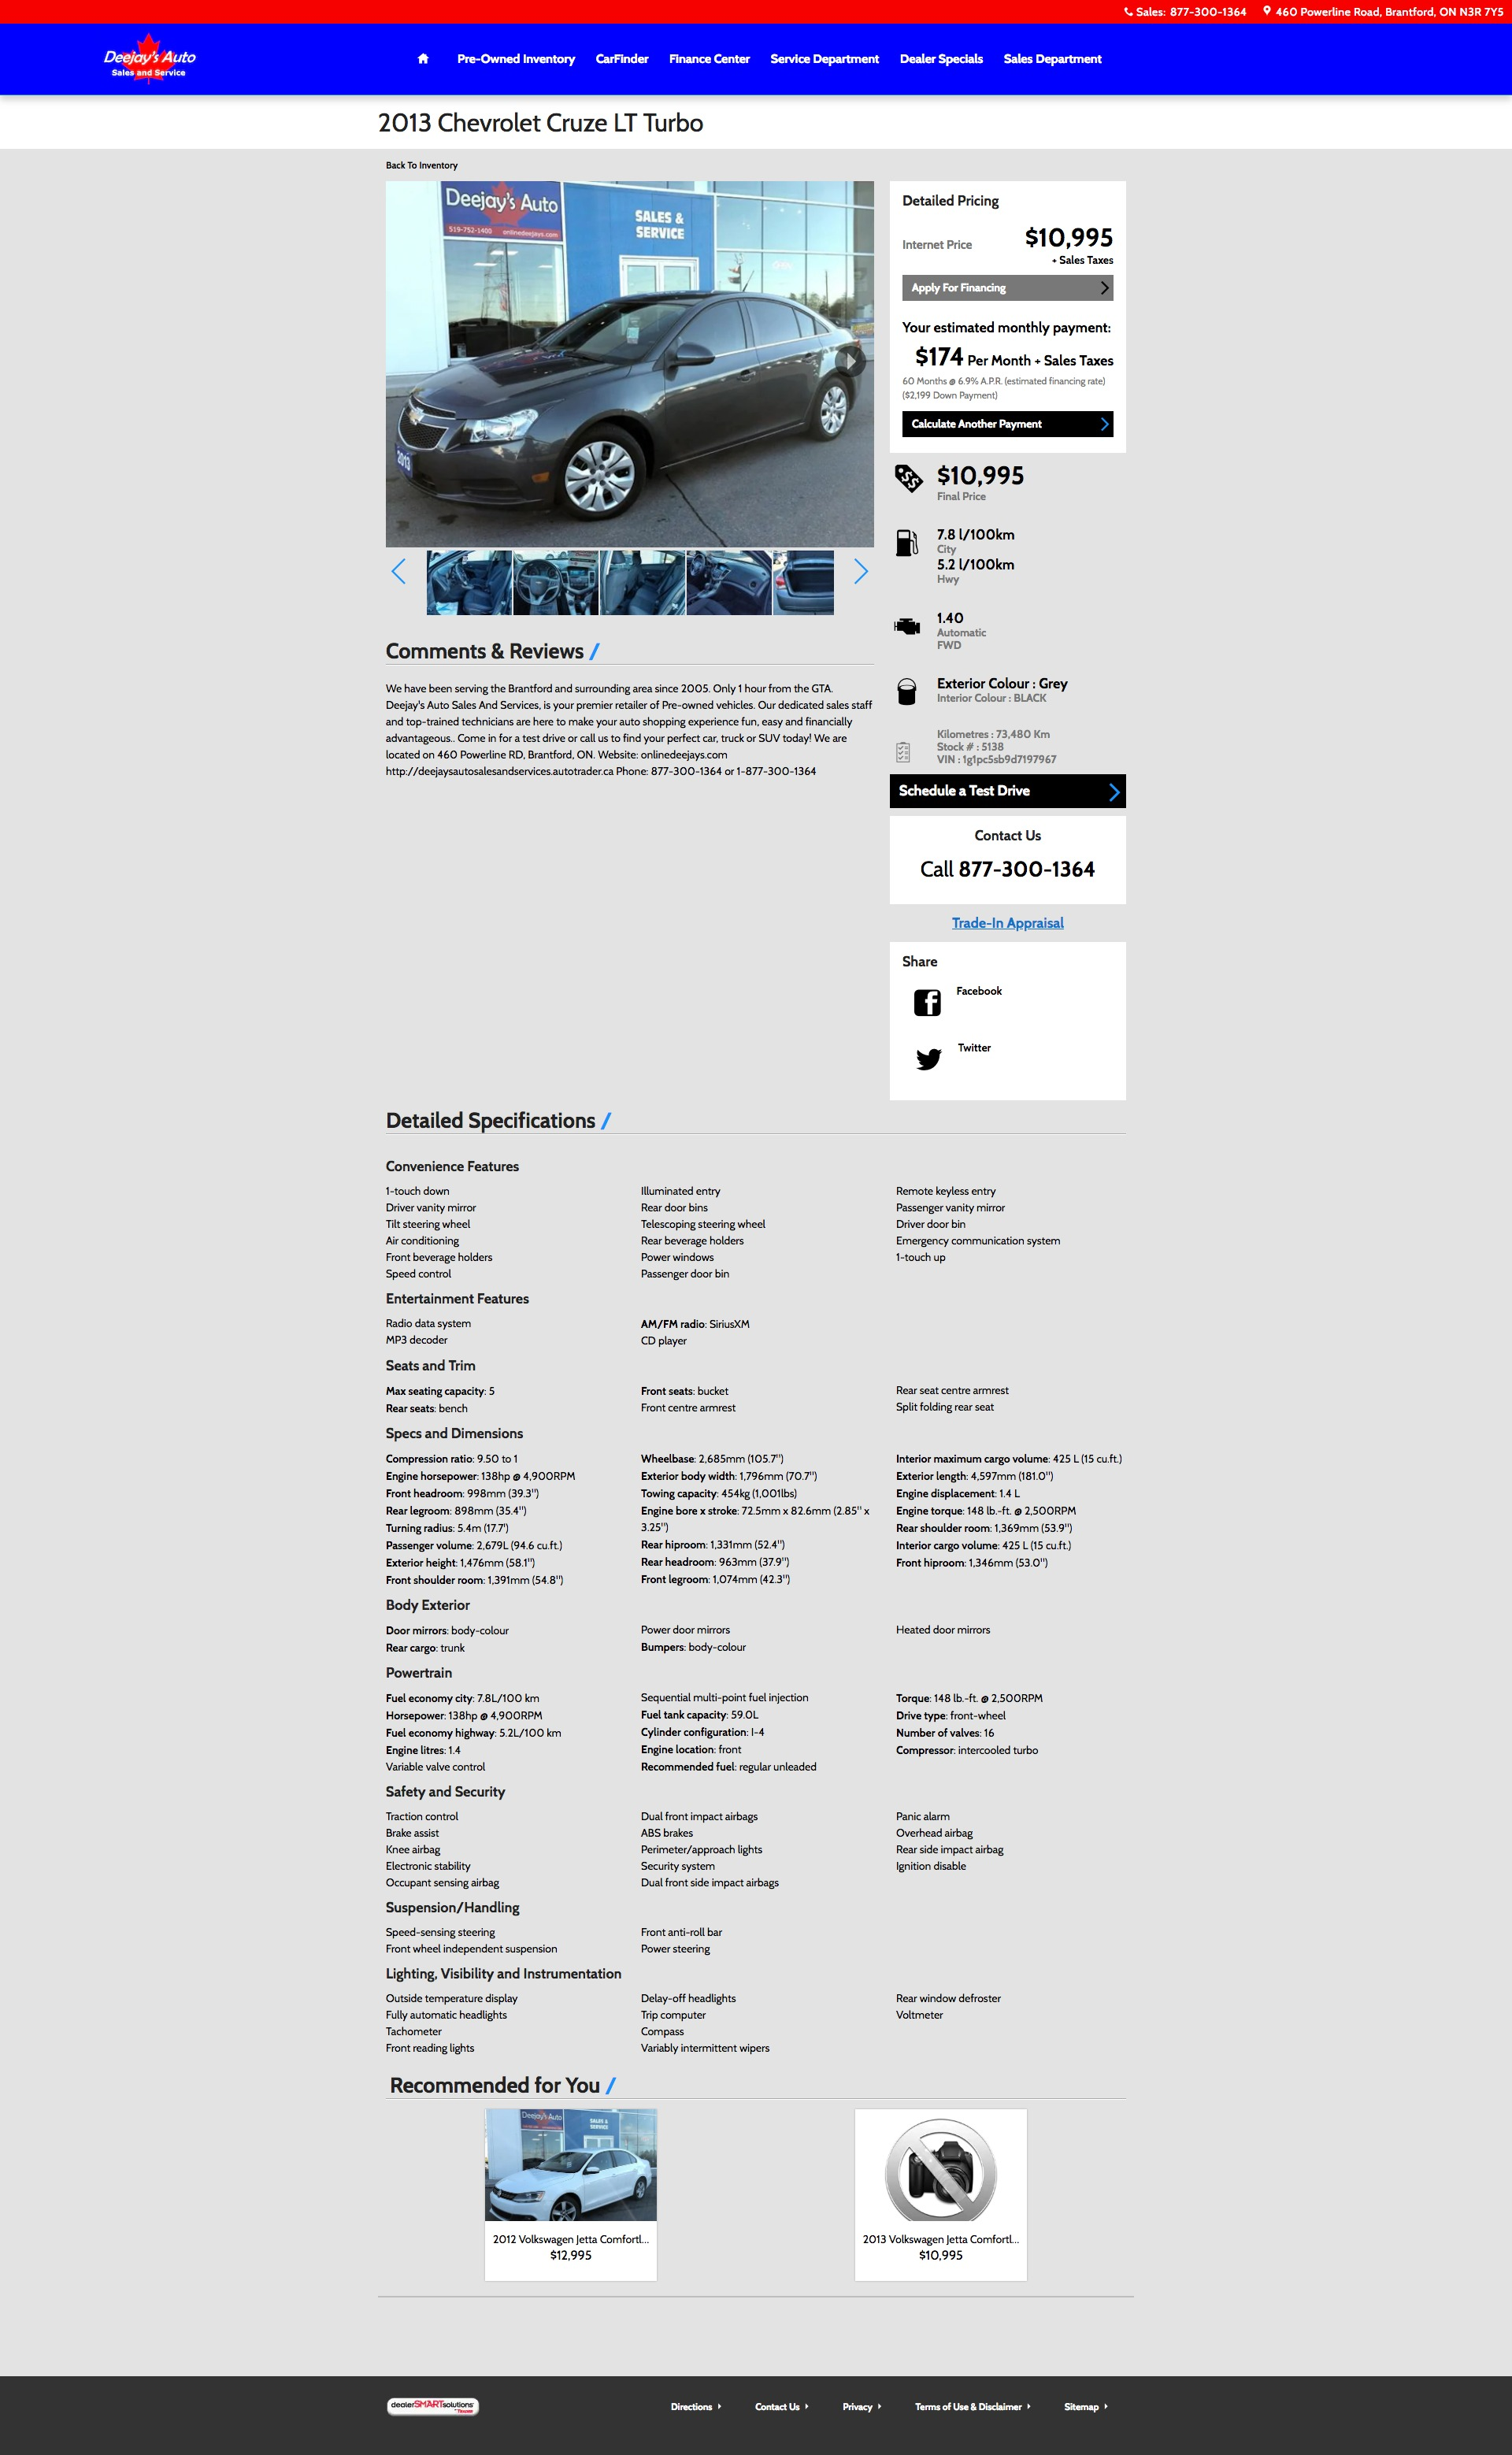car: (854, 558, 868, 586)
